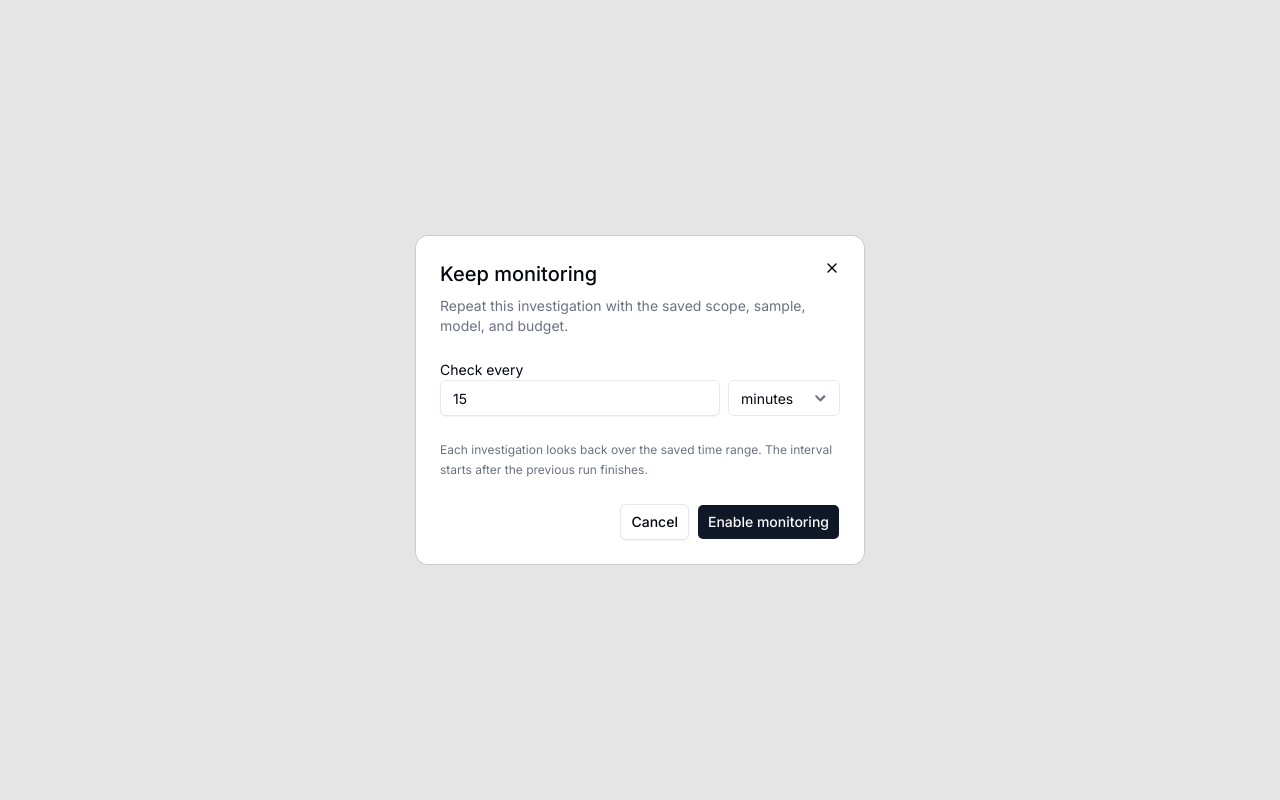
Test case: configures monitoring separately and rejects a zero interval
Replace the text in the number field labelled "Check every" with "2" at x=580, y=398, box [440, 380, 720, 416]
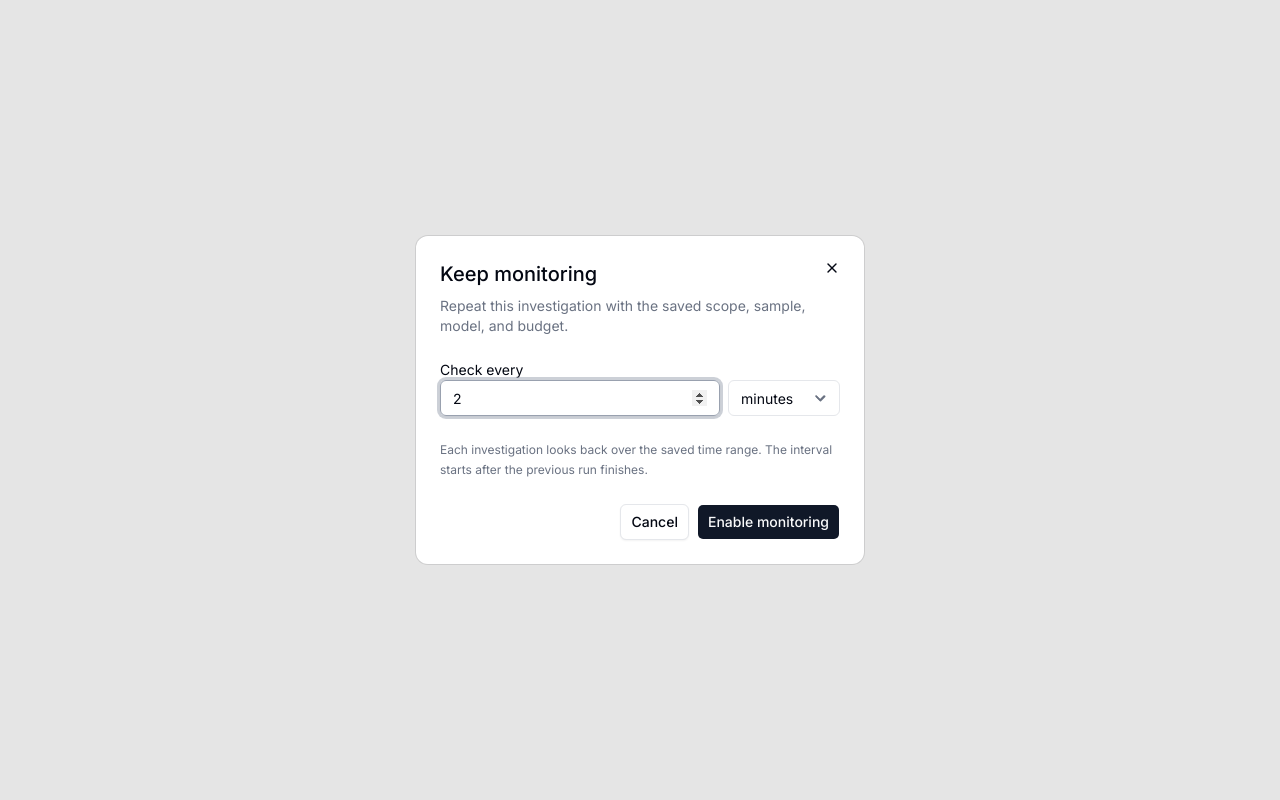
Click the button "Enable monitoring" at x=768, y=522, box [697, 504, 840, 540]
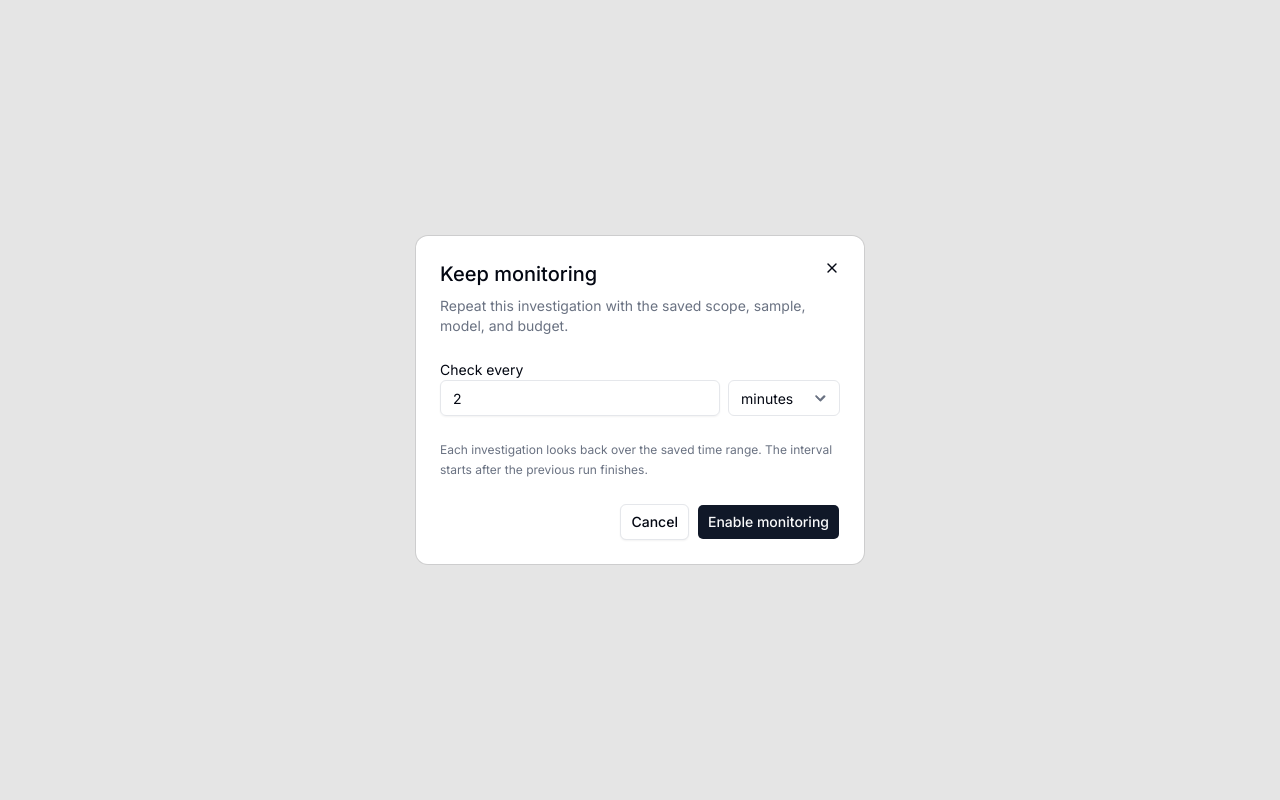
Replace the text in the number field labelled "Check every" with "0" at x=580, y=398, box [440, 380, 720, 416]
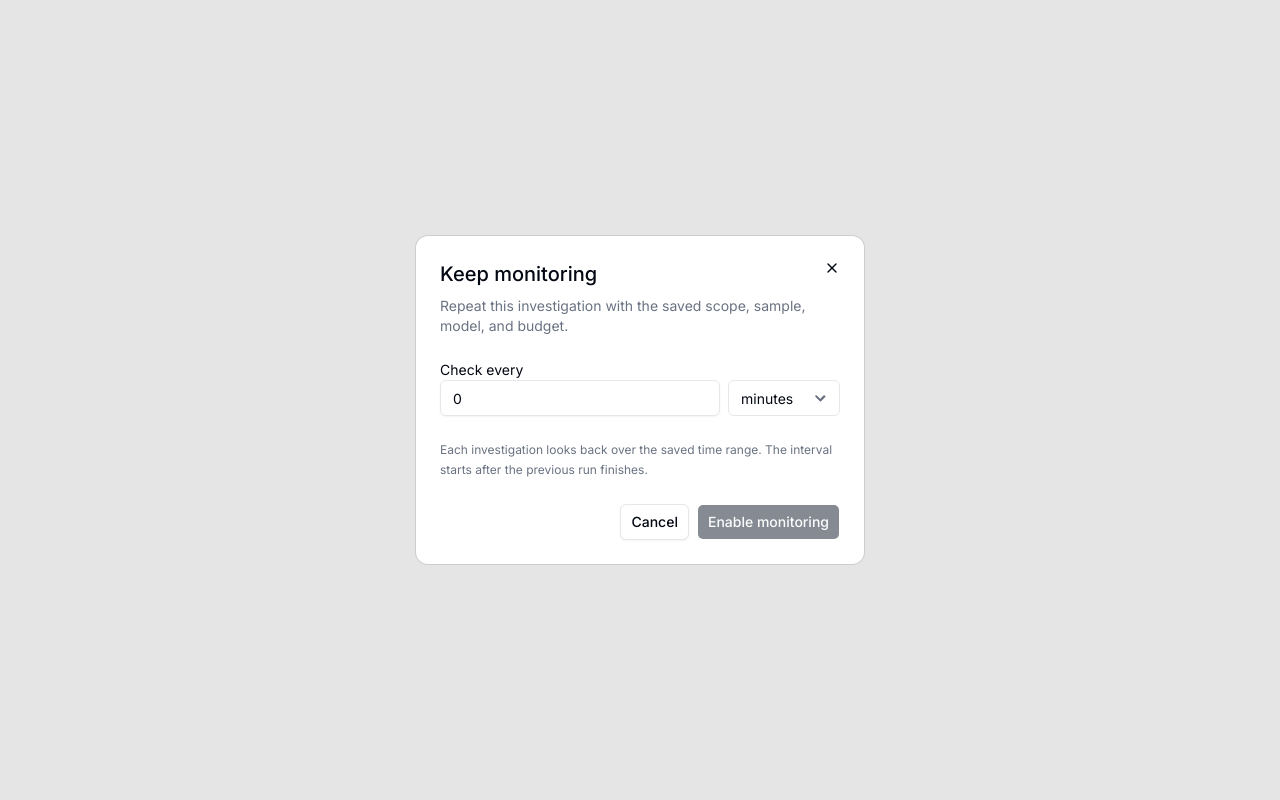
Check: the button "Enable monitoring" is disabled, box [697, 504, 840, 540]
